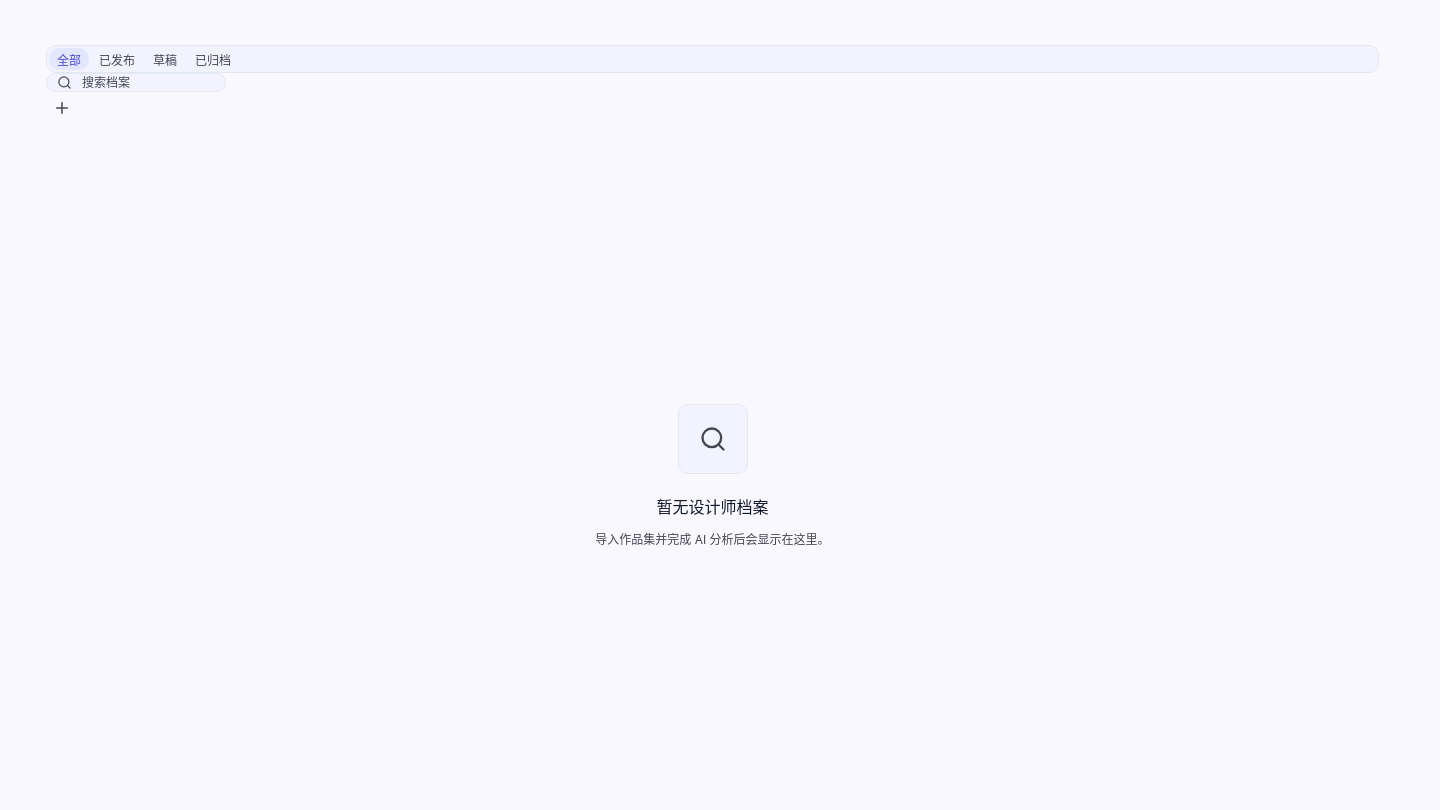
it: renders a completed portfolio candidate as a read-only analysis report
Click the button named "从作品集创建" at (62, 108), box [46,92,78,124]
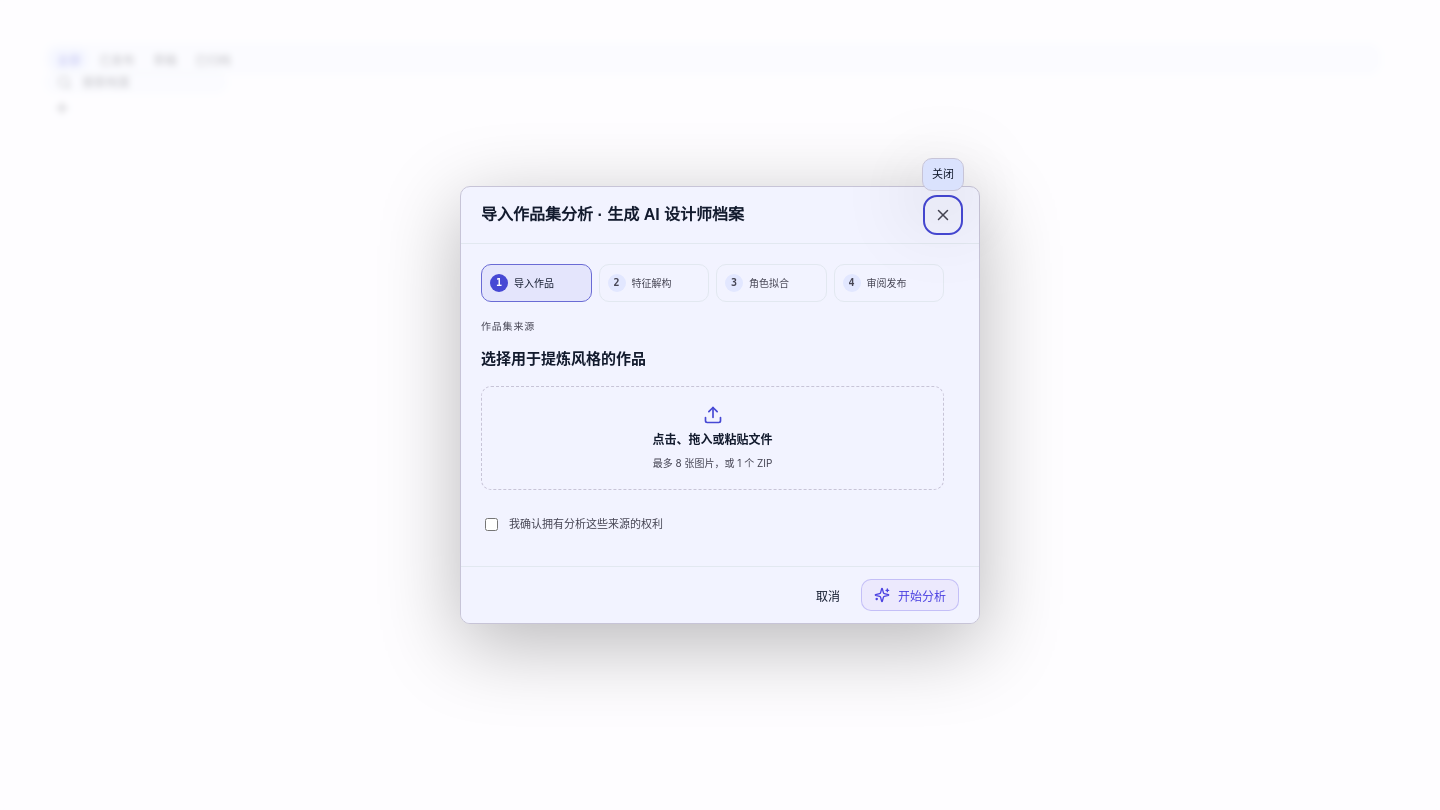
Click the button with aria-label "上传作品集文件" at (712, 438), box [481,386,944,490]
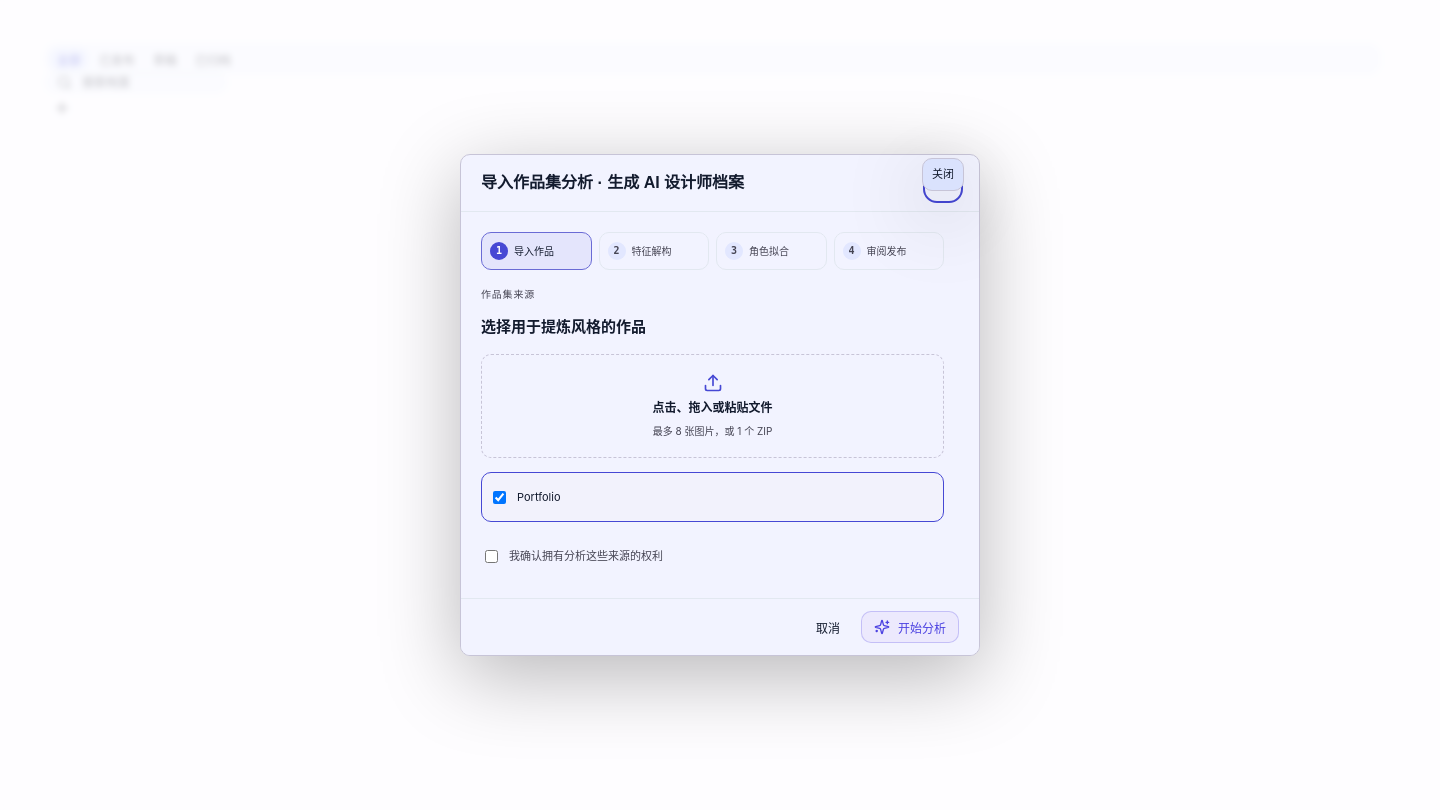
Now the text "Portfolio" is shown, box [517,490,560,504]
Click the checkbox labelled "我确认拥有分析这些来源的权利" at (492, 556), box [485,550,498,563]
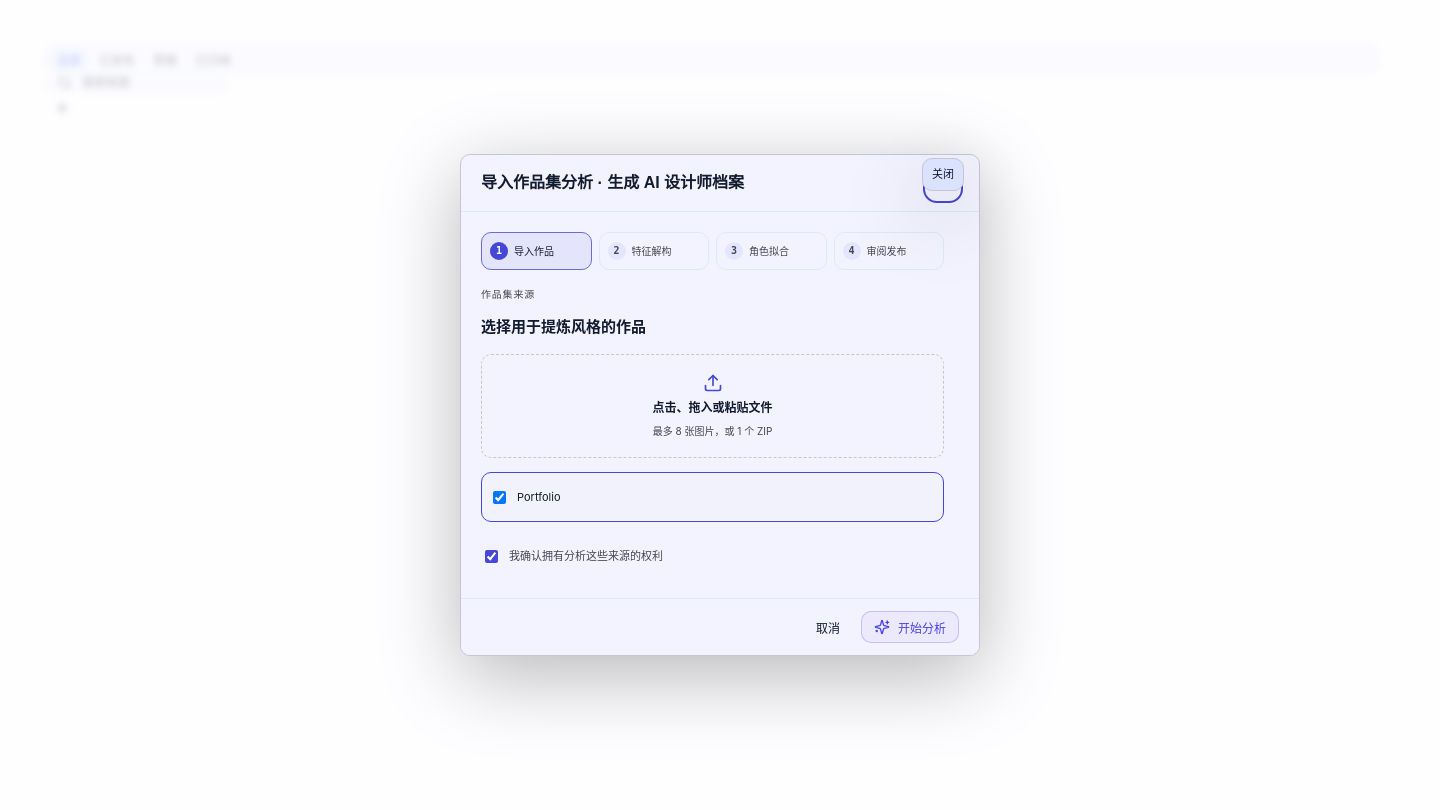
Click the button "开始分析" at (910, 627), box [861,611,959,643]
(page scrolled)
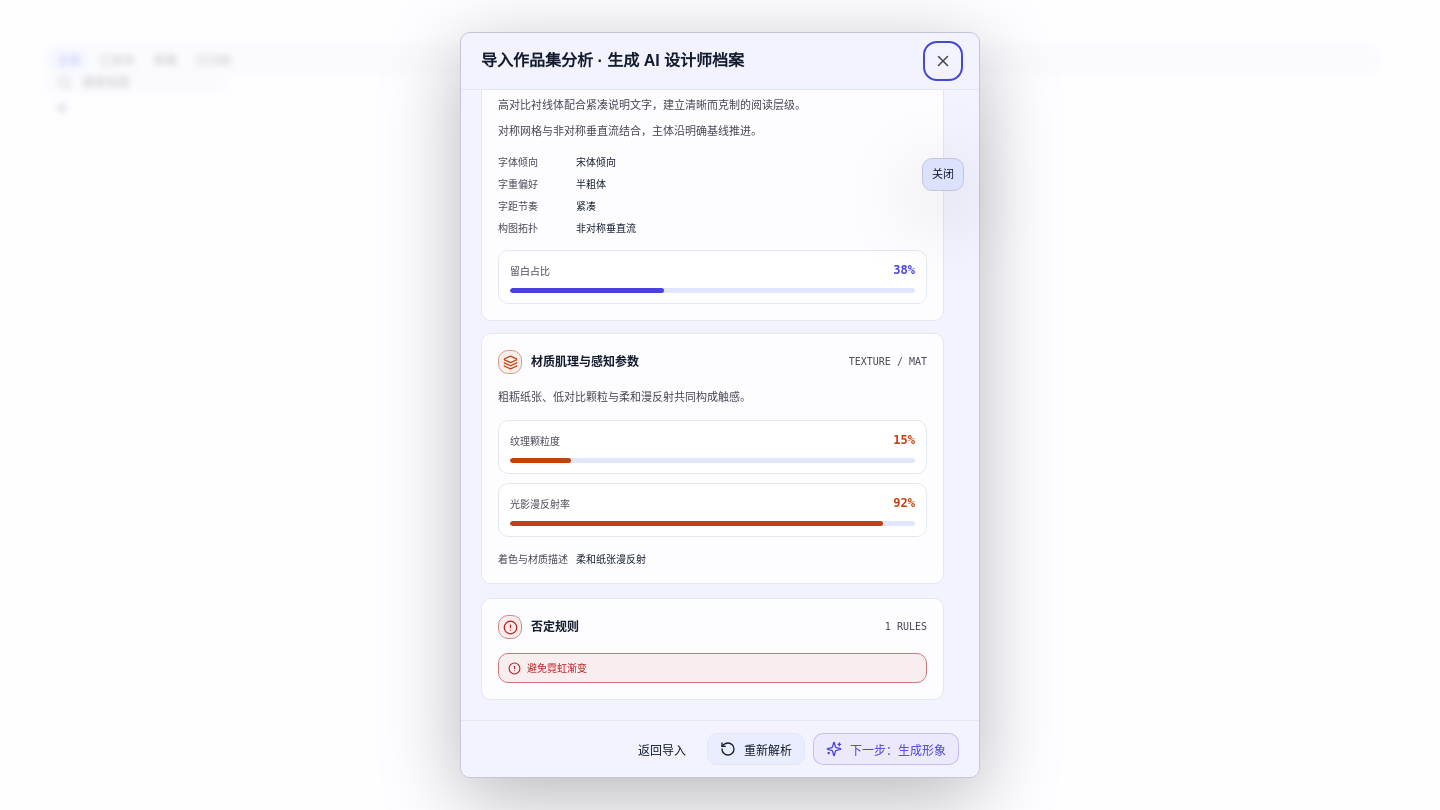
Now the text "高对比衬线体配合紧凑说明文字，建立清晰而克制的阅读层级。" is shown, box [498,98,806,112]
Now the text "对称网格与非对称垂直流结合，主体沿明确基线推进。" is shown, box [498,124,762,138]
Now the text "粗粝纸张、低对比颗粒与柔和漫反射共同构成触感。" is shown, box [498,390,751,404]
Hover over the text "避免霓虹渐变" at (557, 668), box [527,662,587,674]
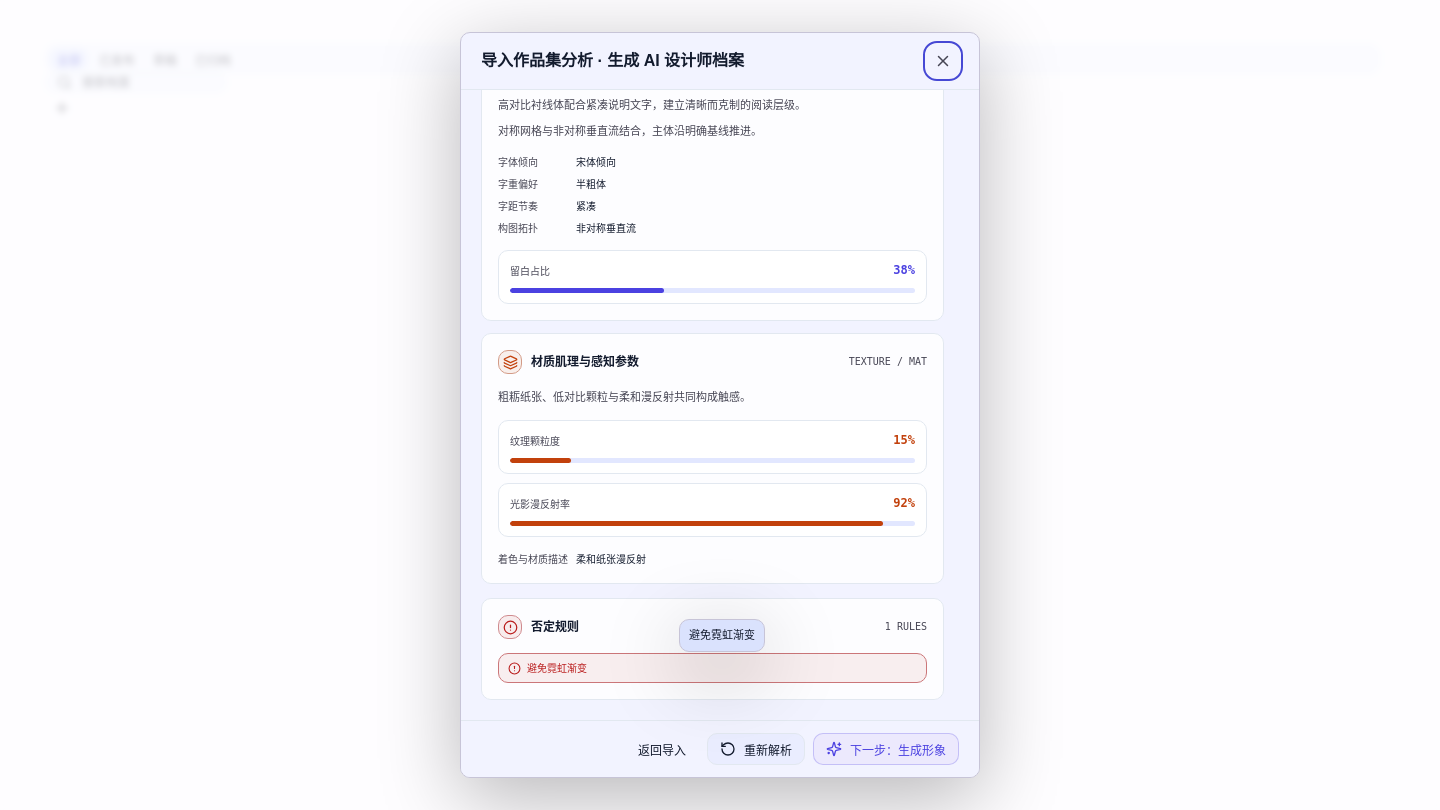
Now the button "重新解析" is shown, box [707,733,805,765]
Now the button "下一步：生成形象" is shown, box [813,733,959,765]
Now the tooltip reads "避免霓虹渐变", box [689,628,755,642]
